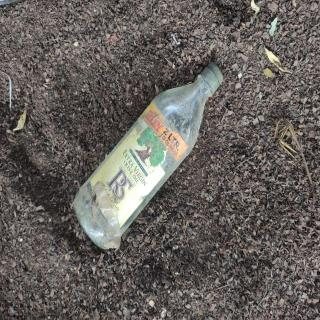Plastic-bottle: (71, 57, 229, 254)
